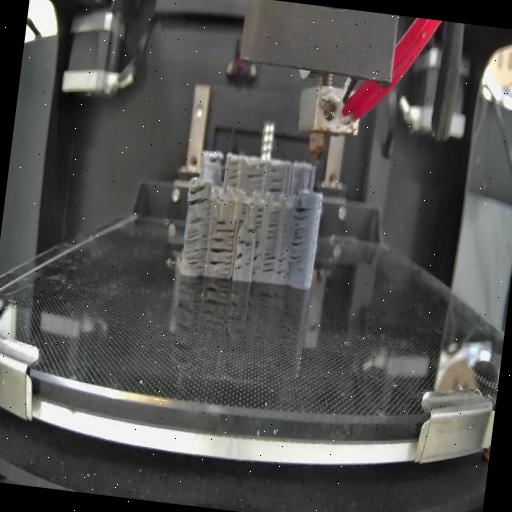cracks: (180, 216, 211, 270), (288, 206, 312, 268), (207, 233, 235, 273), (262, 252, 288, 278), (187, 184, 211, 209), (266, 206, 281, 243), (266, 168, 287, 194), (216, 215, 236, 236), (252, 239, 264, 273), (227, 161, 241, 189), (244, 167, 266, 184), (254, 202, 266, 228), (238, 199, 249, 225), (234, 252, 244, 274), (238, 236, 254, 248), (246, 226, 256, 236)
